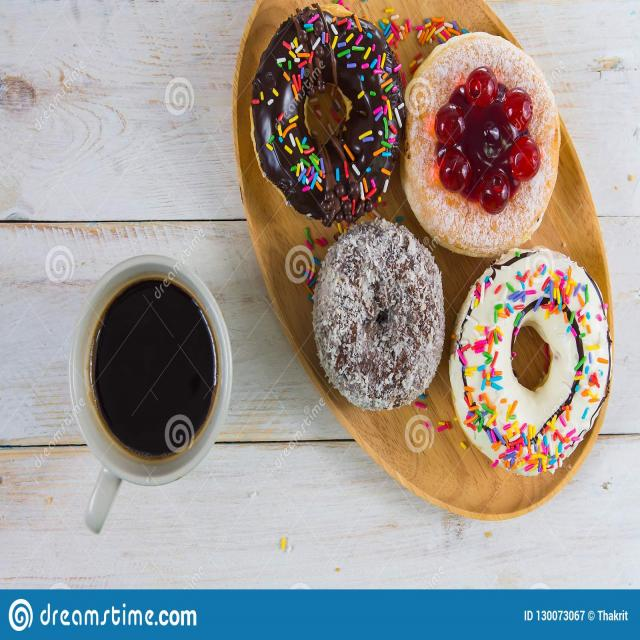donut: (450, 247, 611, 483), (406, 28, 561, 260), (248, 7, 404, 220), (312, 218, 446, 416)
kopi hitam: (69, 255, 232, 482)
